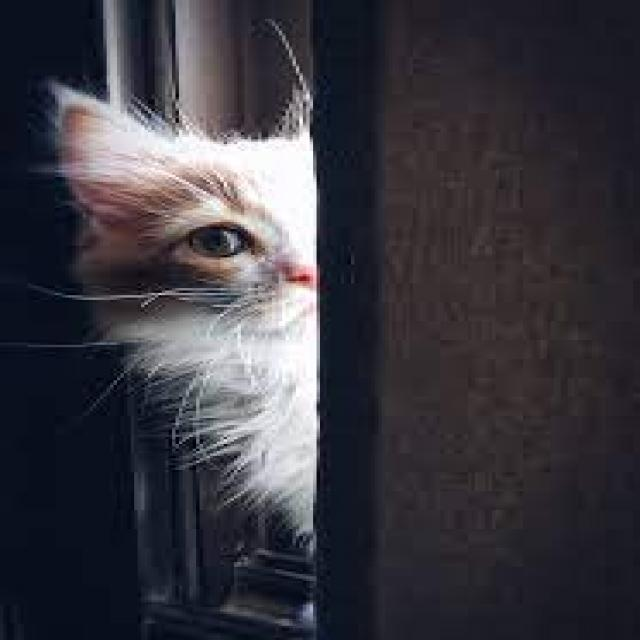Cat: (48, 69, 318, 552)
